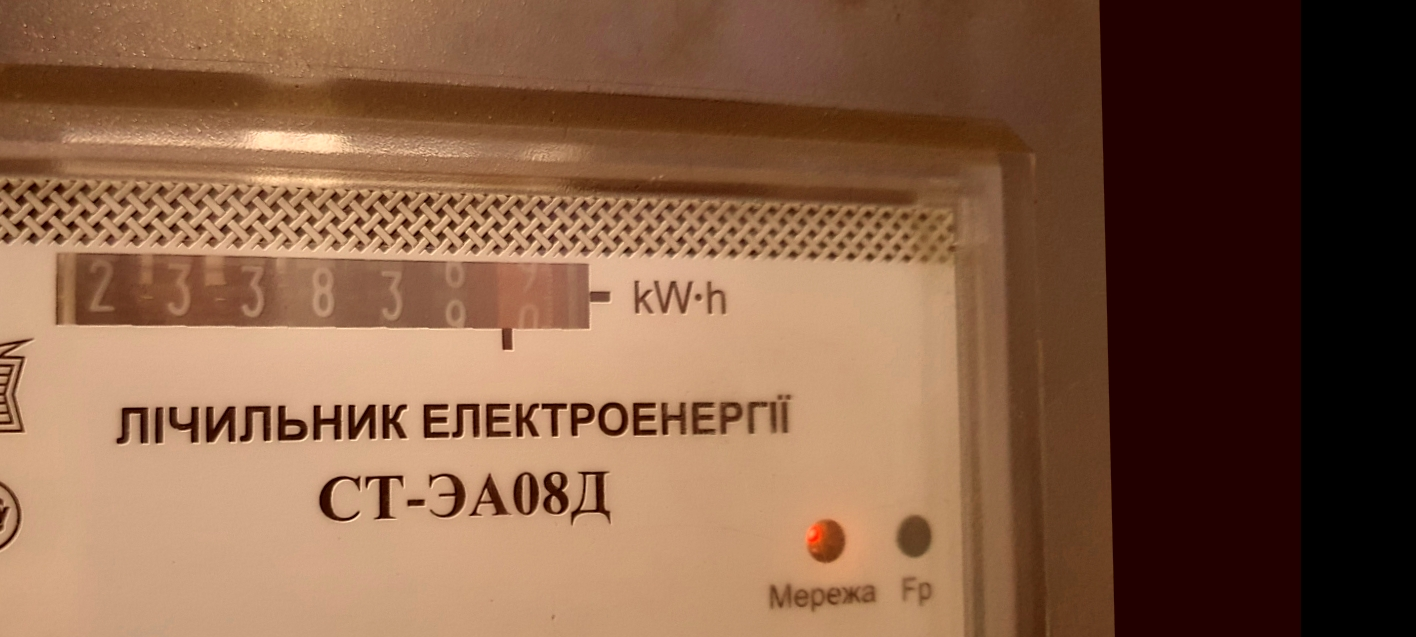0: (515, 301, 542, 335)
2: (82, 255, 122, 317)
3: (233, 259, 270, 323), (164, 259, 193, 318), (377, 265, 407, 322)
8: (305, 262, 340, 321), (442, 257, 469, 289)
9: (512, 257, 543, 296), (442, 295, 471, 332)
screen: (24, 217, 621, 388)
